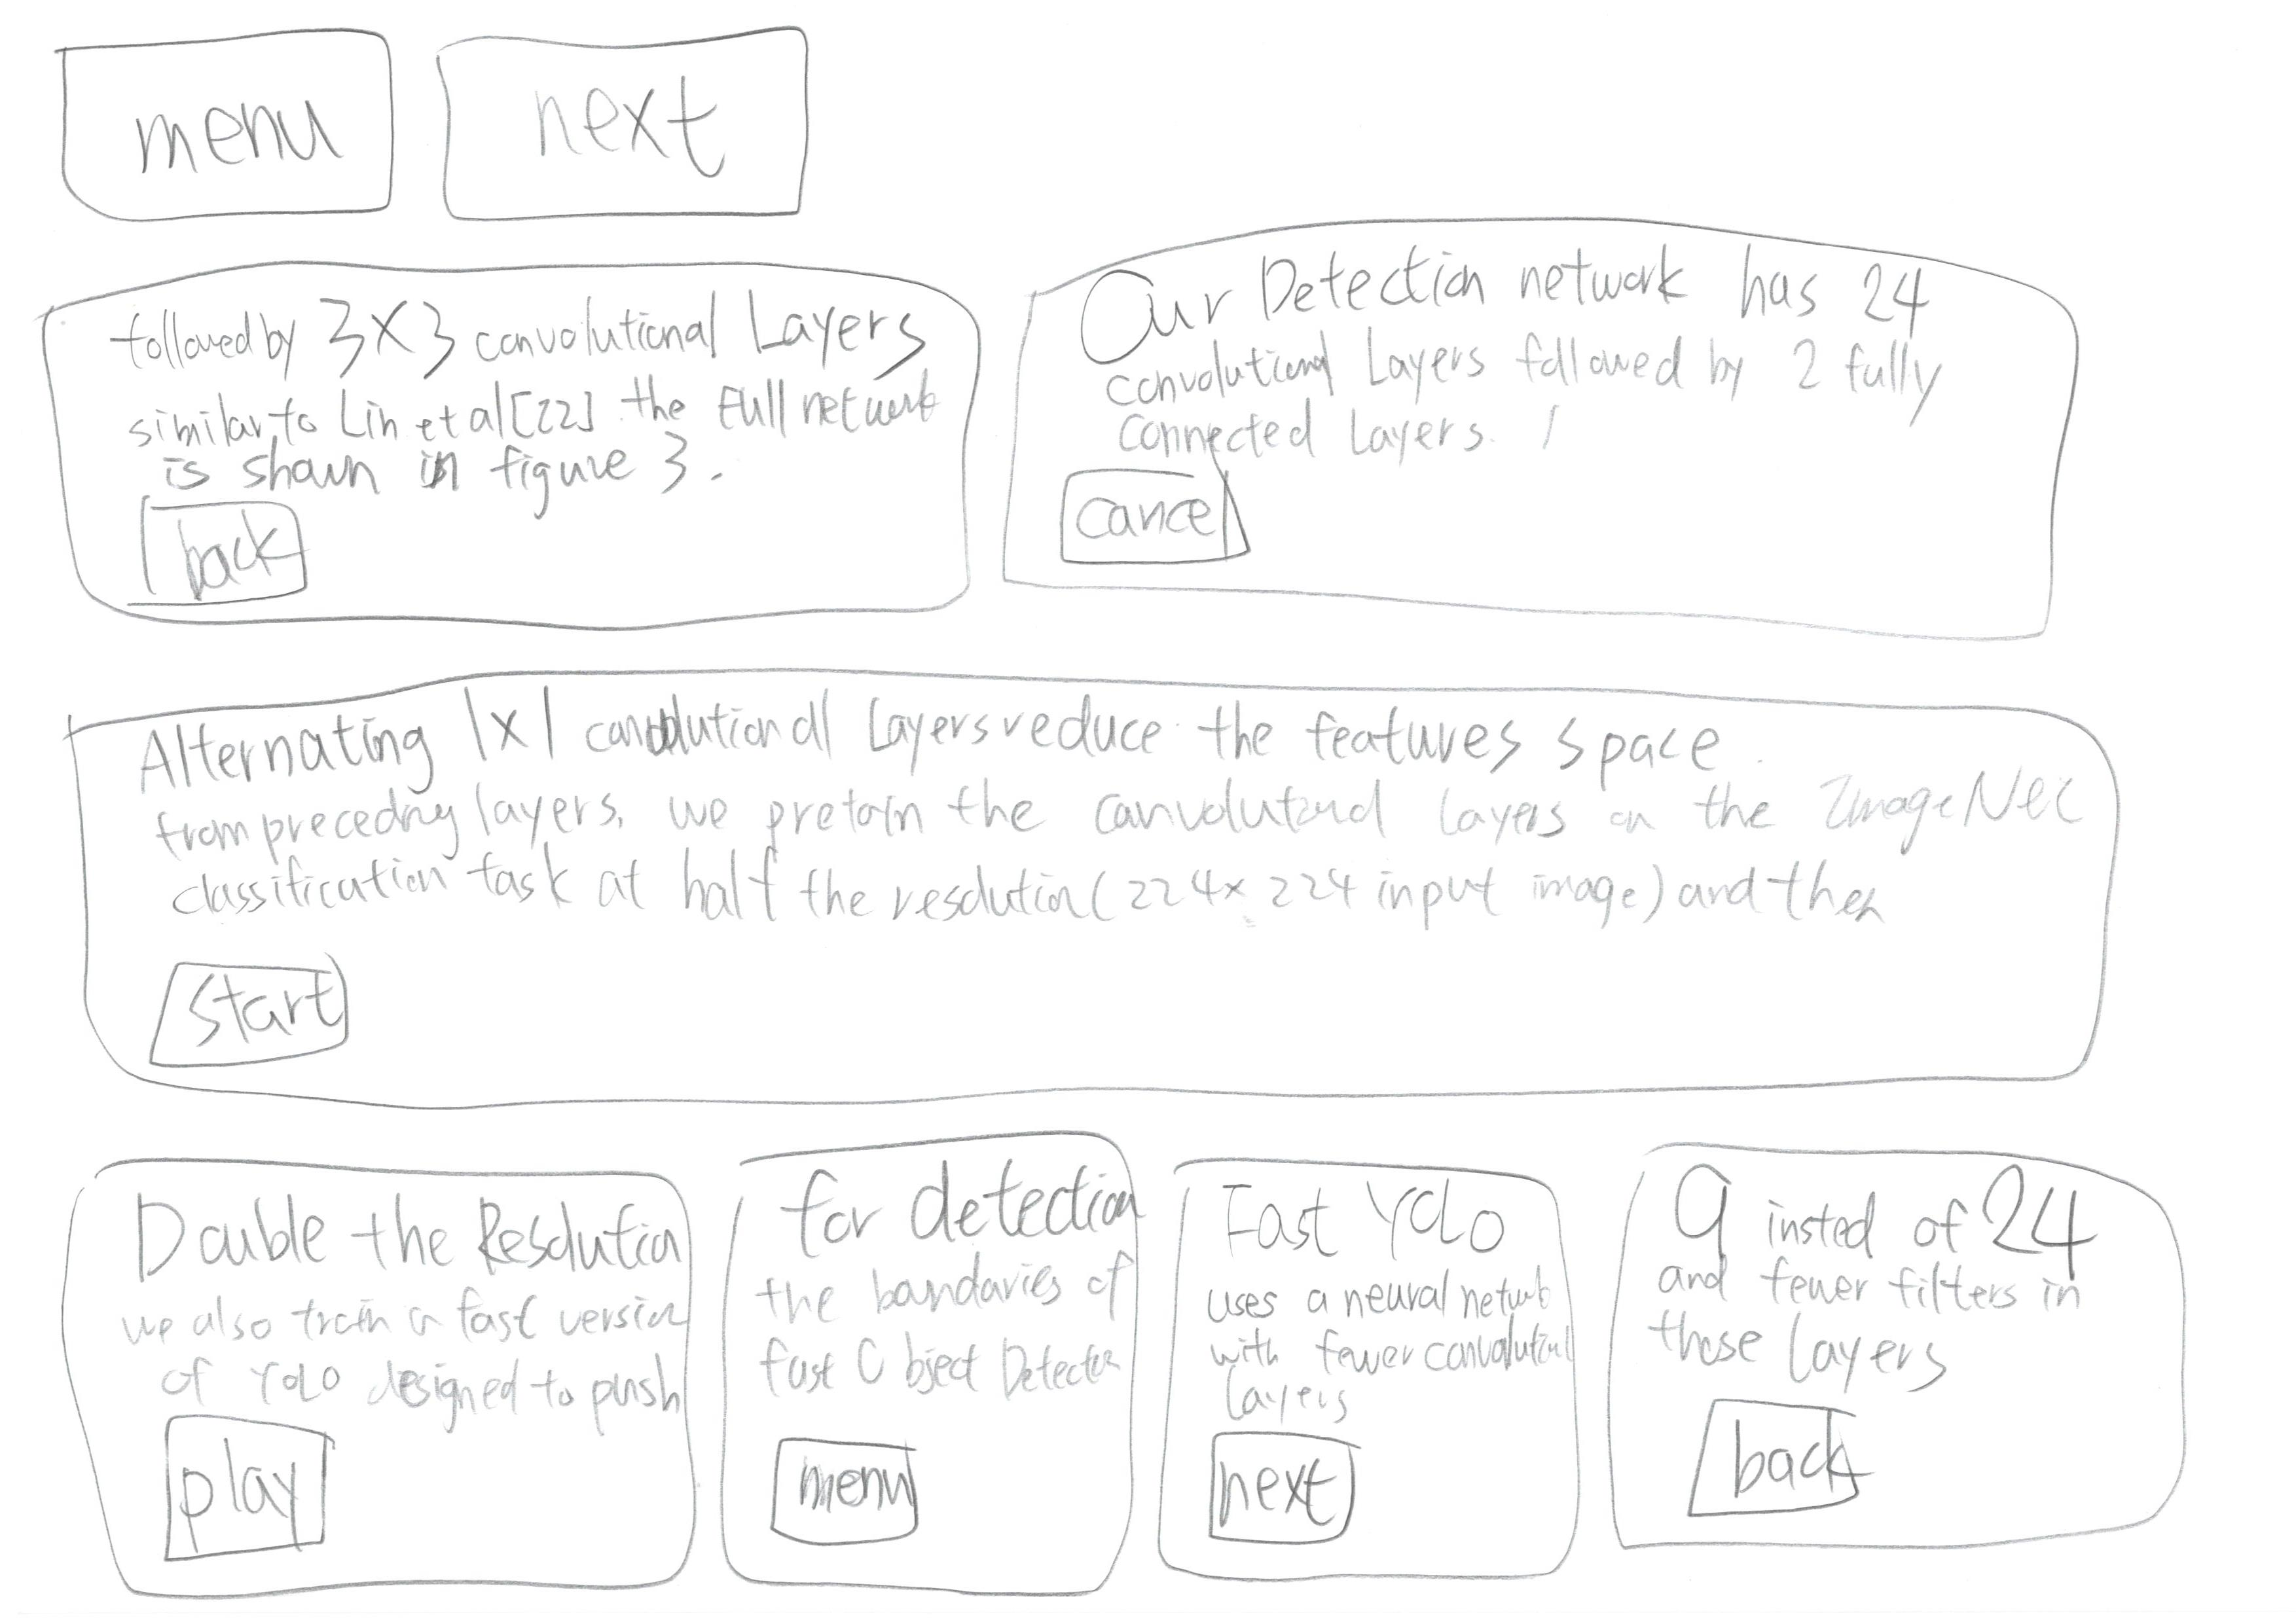back: (1660, 1387, 1897, 1533), (98, 483, 341, 622)
cancel: (1037, 445, 1301, 589)
double: (1002, 214, 2111, 657), (12, 241, 1006, 642)
menu: (28, 14, 413, 230), (749, 1422, 963, 1564)
next: (406, 9, 863, 246), (1178, 1425, 1389, 1550)
play: (130, 1403, 371, 1594)
quadruple: (35, 1127, 714, 1624), (1595, 1123, 2257, 1617), (1136, 1121, 1609, 1622), (705, 1123, 1176, 1624)
row: (5, 1098, 2296, 1624), (5, 647, 2296, 1116), (5, 207, 2296, 670), (11, 4, 2275, 255)
single: (0, 649, 2191, 1139)
small-title: (144, 698, 1749, 791), (1058, 232, 1950, 339), (93, 286, 944, 362), (113, 1171, 666, 1278), (1653, 1149, 2097, 1276), (772, 1162, 1113, 1236), (1215, 1178, 1529, 1251)
start: (118, 944, 389, 1095)
text: (162, 798, 2066, 953), (111, 360, 919, 496), (1099, 339, 2020, 453), (146, 1280, 670, 1415), (1201, 1250, 1579, 1431), (737, 1250, 1136, 1413), (1649, 1269, 2104, 1388)
